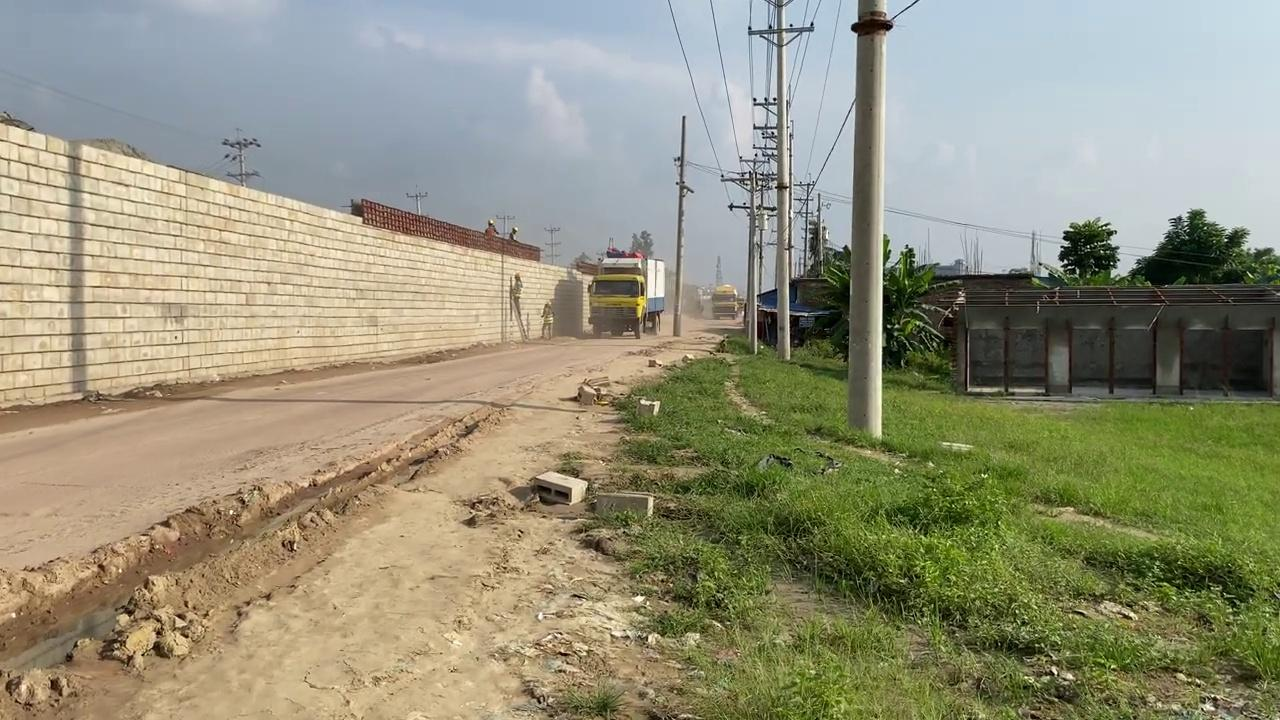Fence: (945, 283, 1278, 401)
Obstacle: (532, 470, 588, 505), (636, 397, 660, 417)
Pole: (846, 0, 891, 440), (773, 1, 792, 361), (672, 115, 687, 336)
Rickshaw: (1, 322, 738, 718)
Traffic-sign: (809, 233, 953, 369), (1129, 206, 1272, 285), (1056, 215, 1119, 284)
Tree: (586, 244, 665, 338), (696, 255, 741, 320)
Upstairs: (0, 117, 586, 408)
